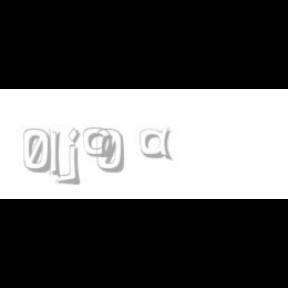0: (96, 128, 128, 174), (23, 128, 54, 174)
a: (140, 128, 177, 160)
j: (66, 128, 94, 186)
l: (48, 128, 64, 180)
o: (83, 128, 112, 158)
